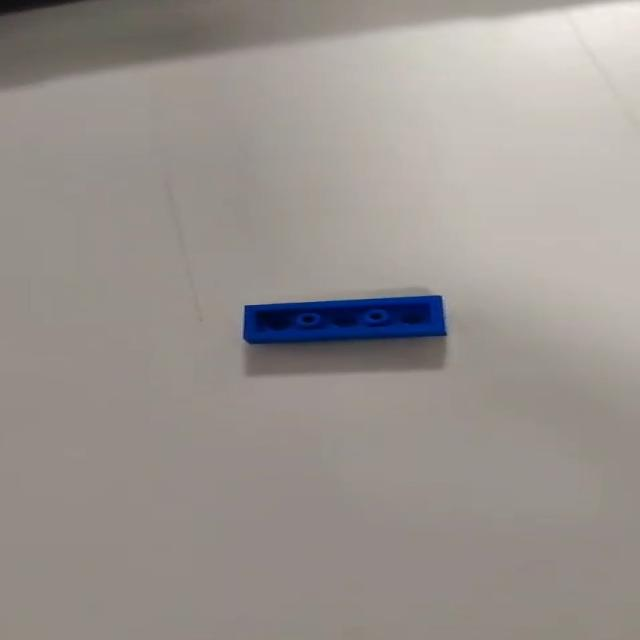C3x1x0: (245, 295, 449, 346)
